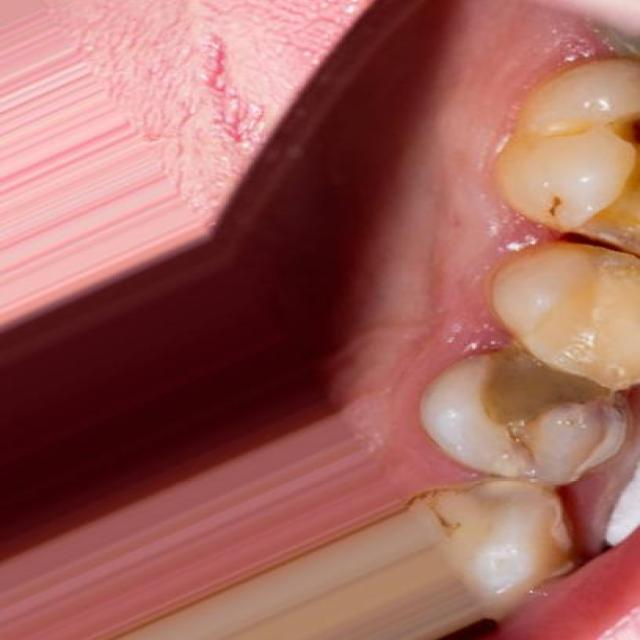caries: (461, 332, 640, 468), (543, 158, 640, 331), (463, 478, 636, 570)
